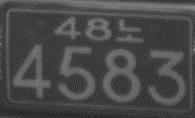3: (147, 47, 187, 107)
4: (13, 42, 50, 98), (54, 15, 81, 40)
5: (56, 45, 97, 101)
8: (102, 47, 140, 104), (85, 17, 111, 42)
노: (115, 17, 143, 44)
